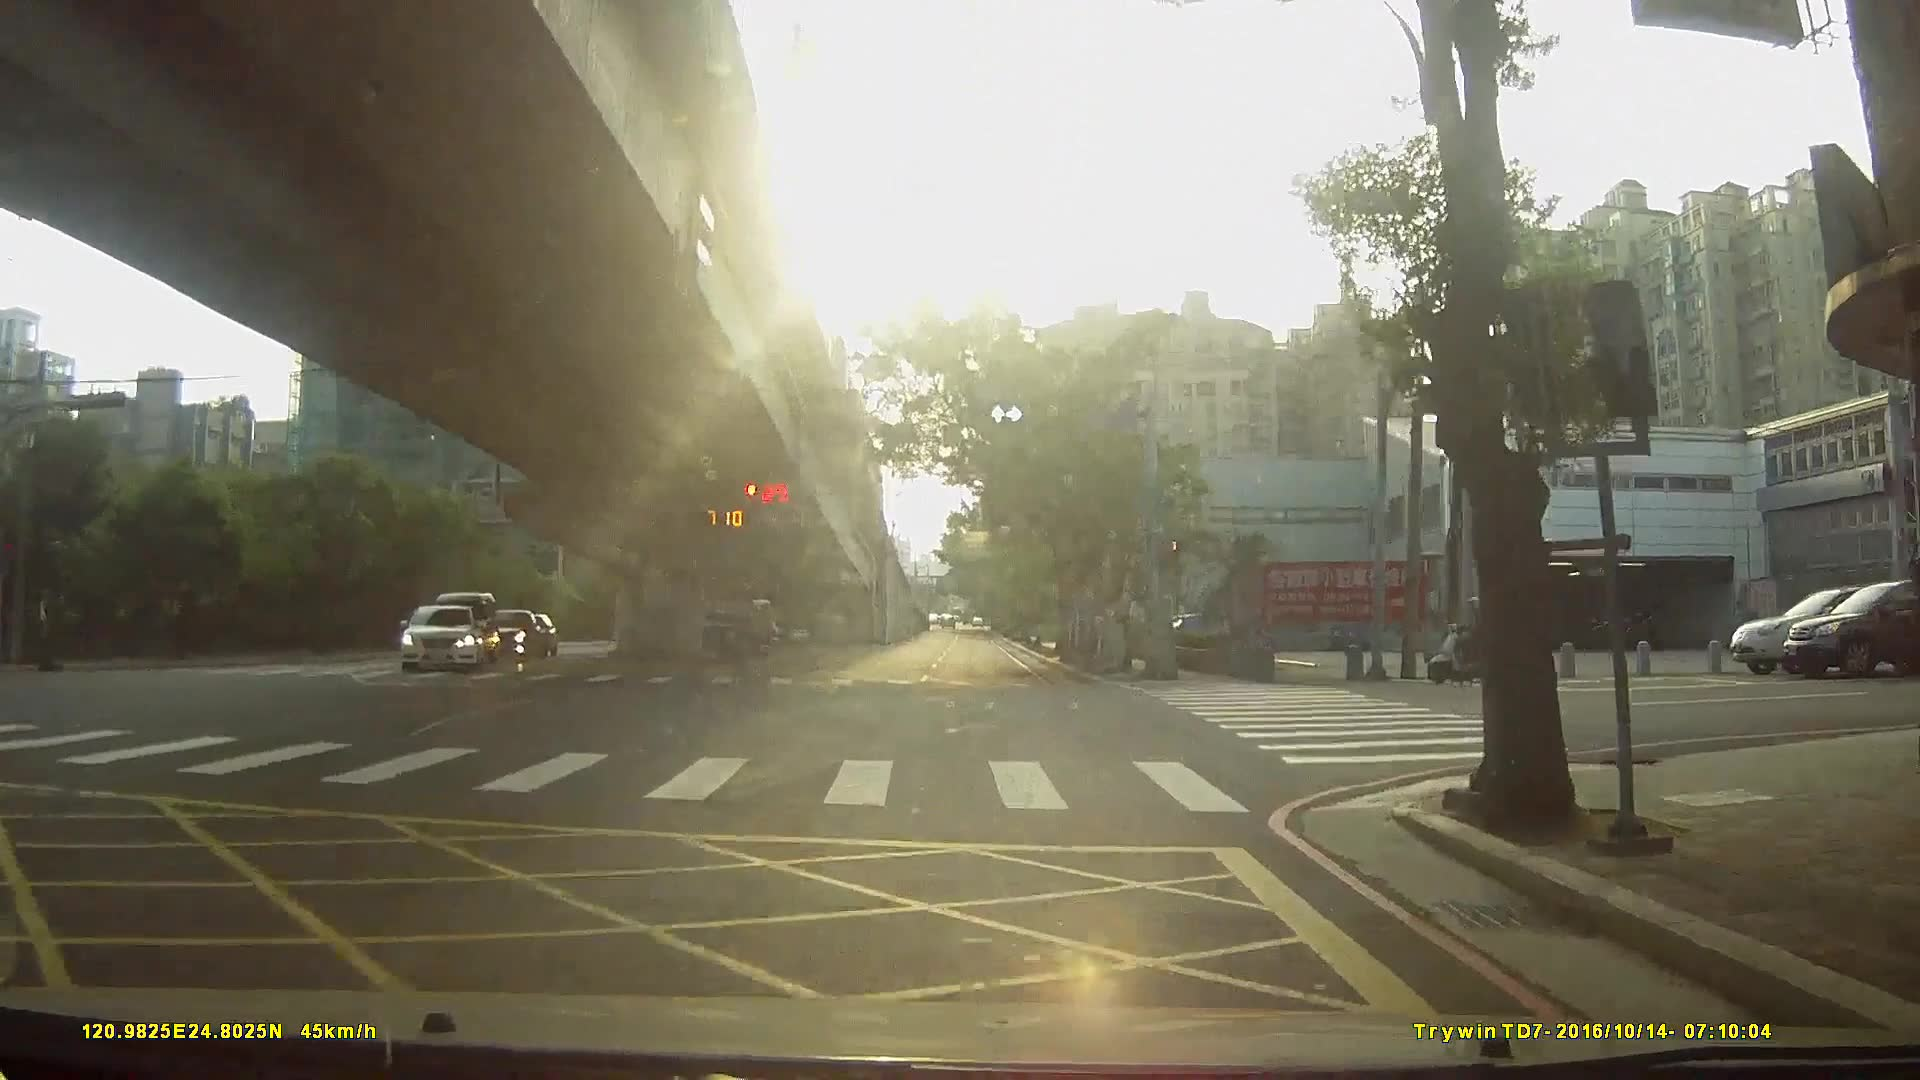rider: (1430, 596, 1512, 684)
vehicle: (1737, 580, 1920, 673), (1789, 573, 1920, 675), (395, 600, 480, 671), (672, 601, 773, 659), (471, 604, 541, 655)
